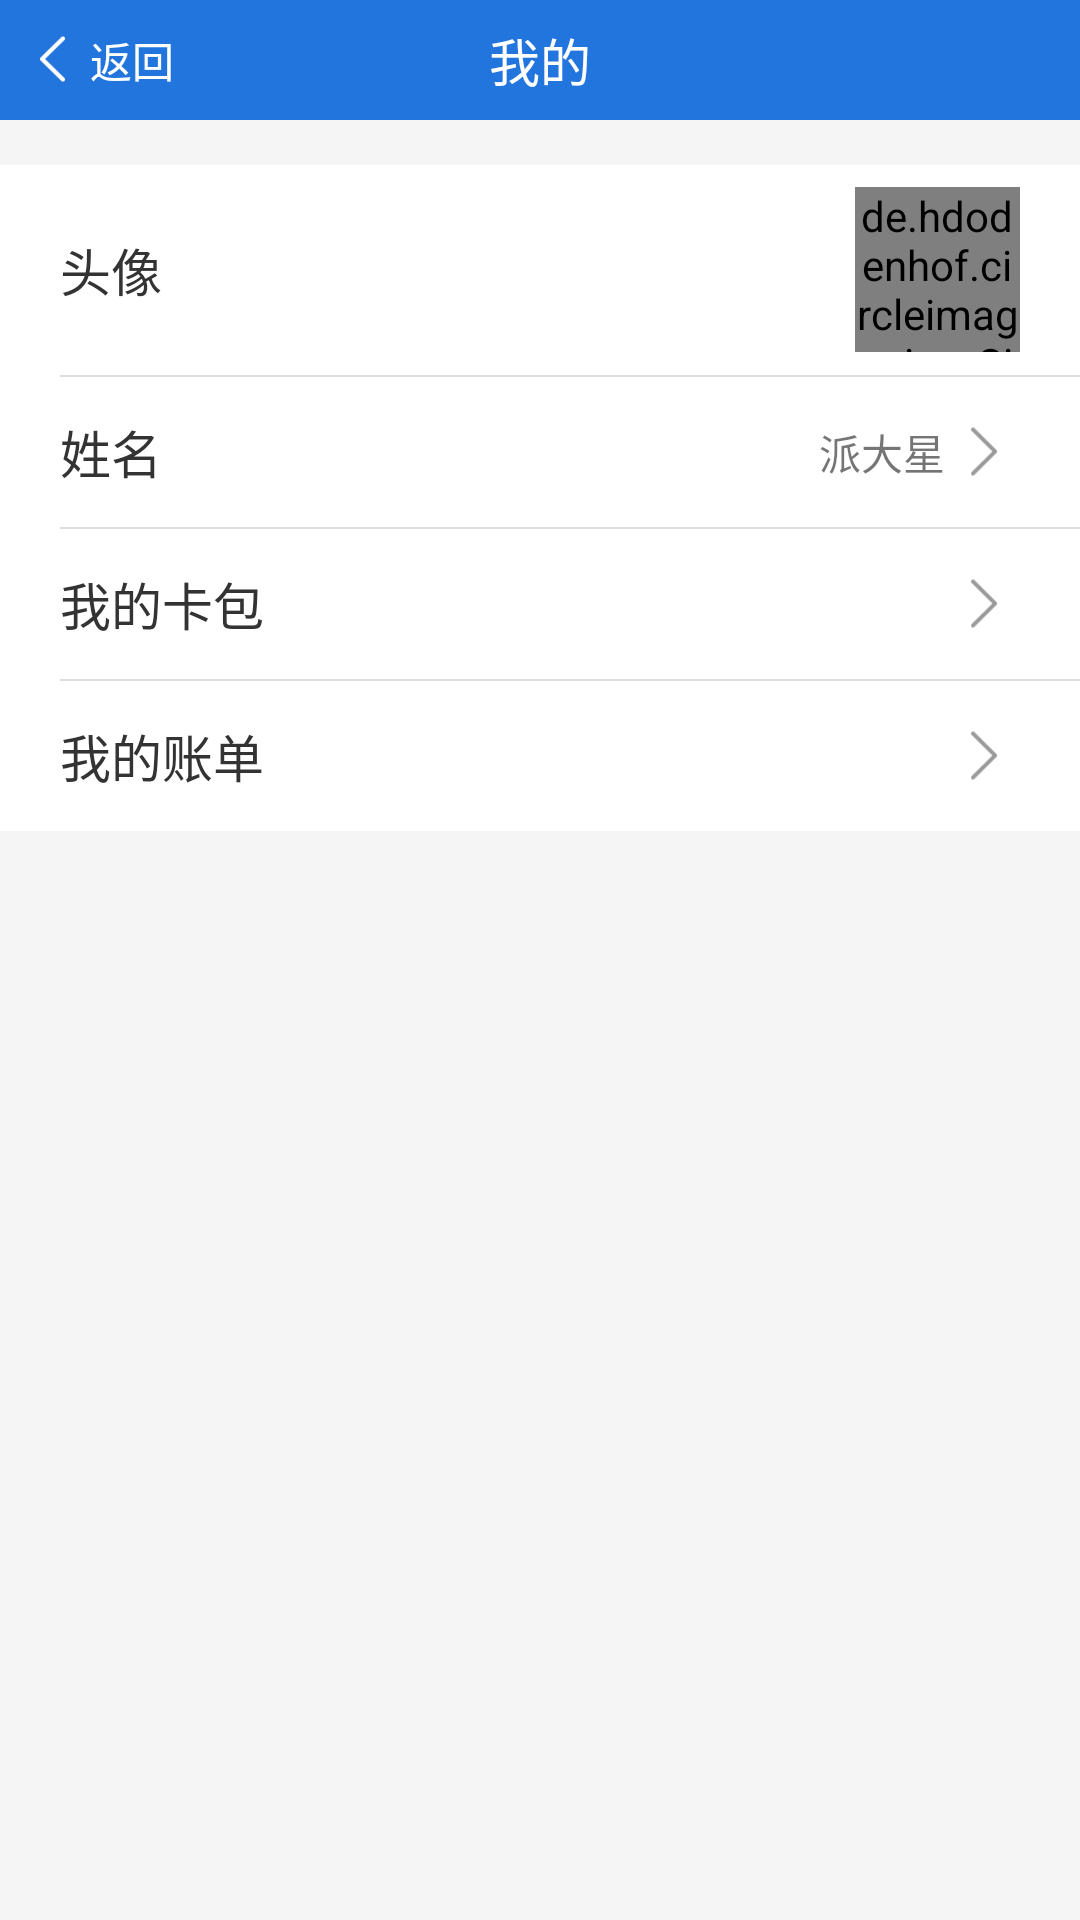

Where icons sit on this 1080*1920 app screen, as rect(x1, y1, x2, y2):
right: rect(971, 427, 997, 476), rect(971, 579, 997, 628), rect(971, 731, 997, 780)
